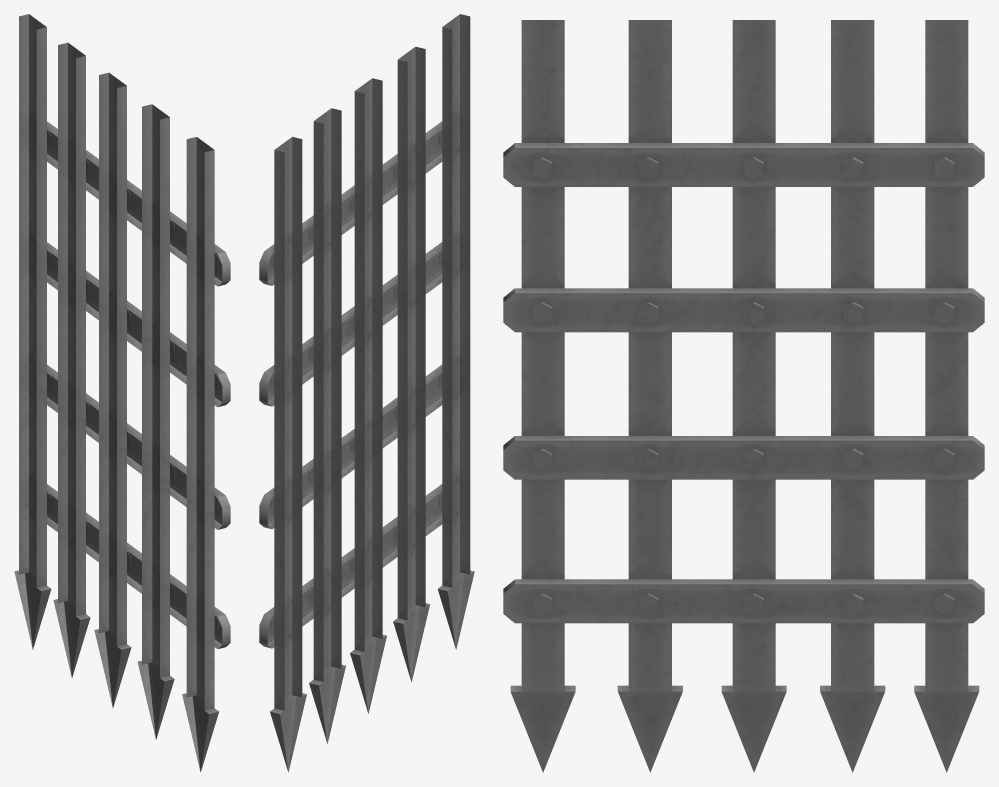
The model's file is Door.fbx.
3 renders of one model, left to right at view 1: azimuth 30°, elevation 25°; view 2: azimuth 150°, elevation 25°; view 3: azimuth 270°, elevation 25°, orthographic. The views are drawn at different scales.
Visible parts, largest first — view 1: DOOR_Original; view 2: DOOR_Original; view 3: DOOR_Original.
Part boxes in pixels (x1=…): DOOR_Original: x1=14, y1=14, x2=230, y2=772; DOOR_Original: x1=259, y1=14, x2=474, y2=772; DOOR_Original: x1=503, y1=20, x2=984, y2=772.
Size of the model in its own units: 0.3908 by 10.73 by 6.19.
1 material, 1 textured.
